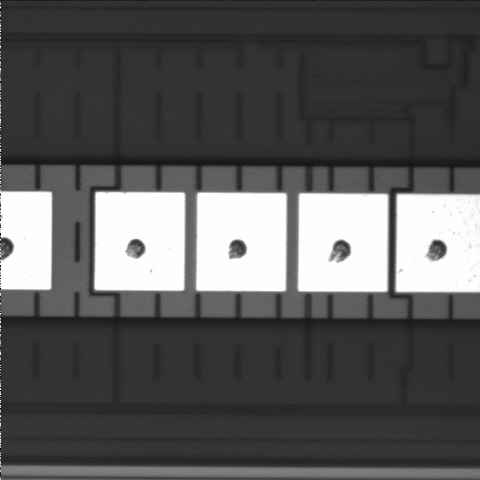pad: (196, 193, 287, 291), (95, 192, 185, 291), (298, 193, 388, 292)
